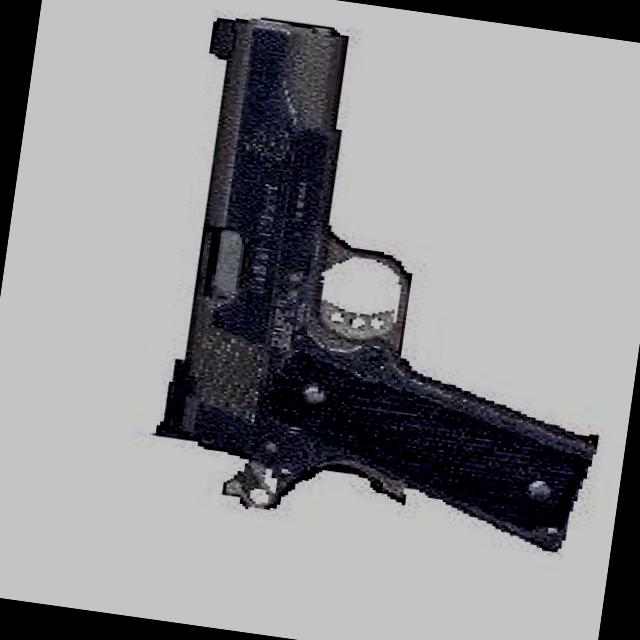handgun: (141, 8, 638, 560)
